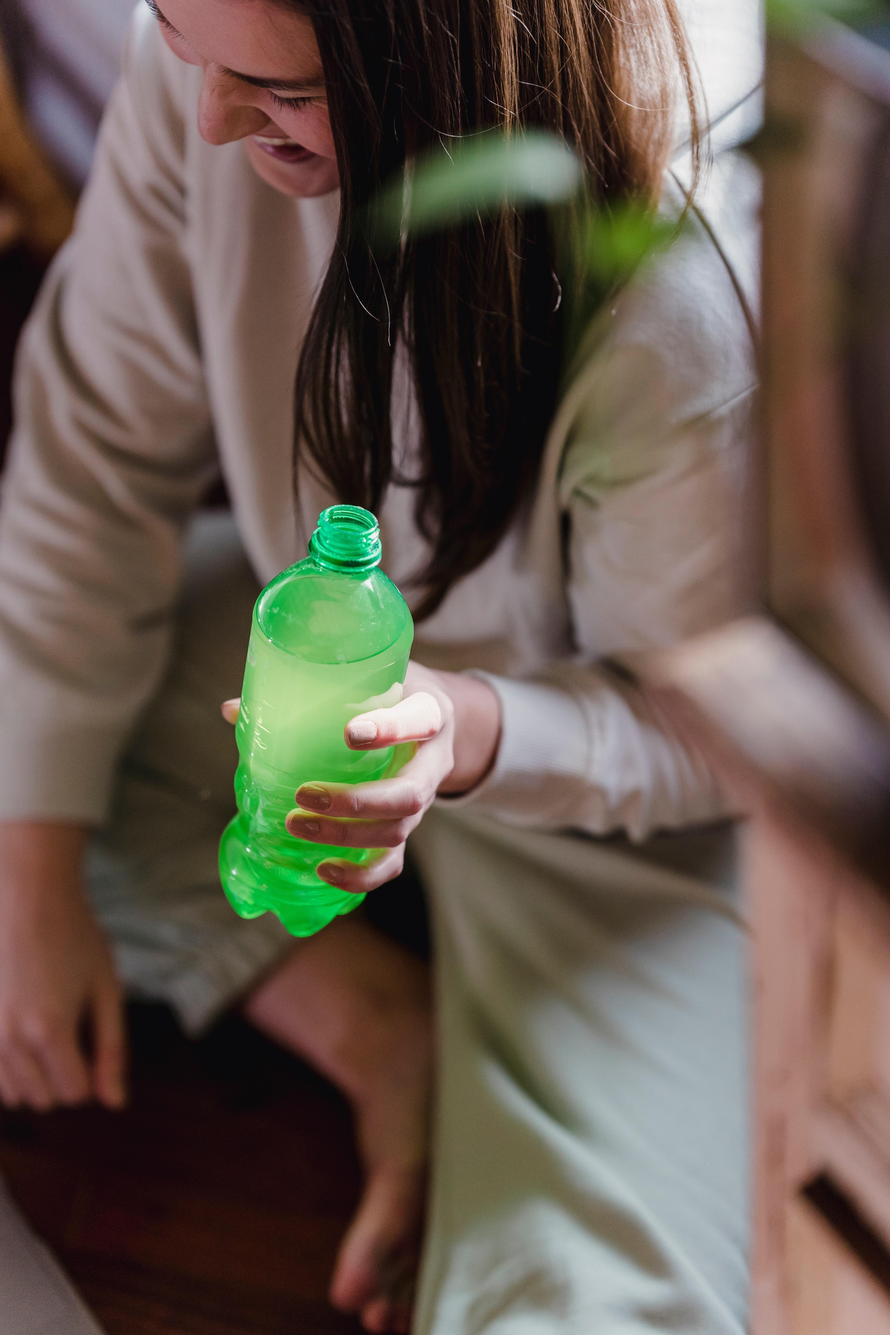bottle-plastic: (201, 490, 430, 959)
